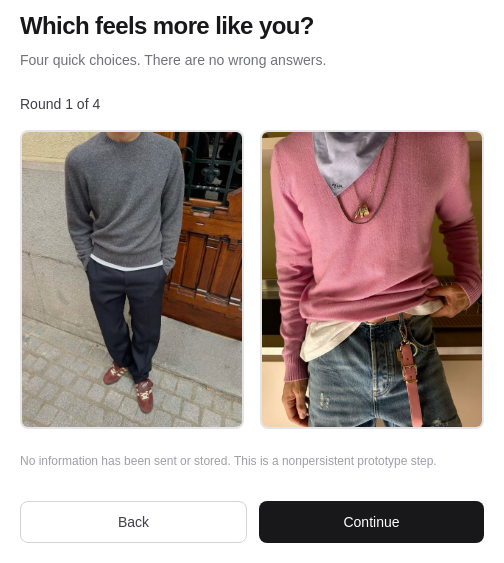
Test: WishboneFlow — Back navigation › preserves a round's earlier selection when navigating Back to it
The width and height of the screenshot is (504, 563).
Click the 1st button: (132, 279) [20, 130, 244, 429]
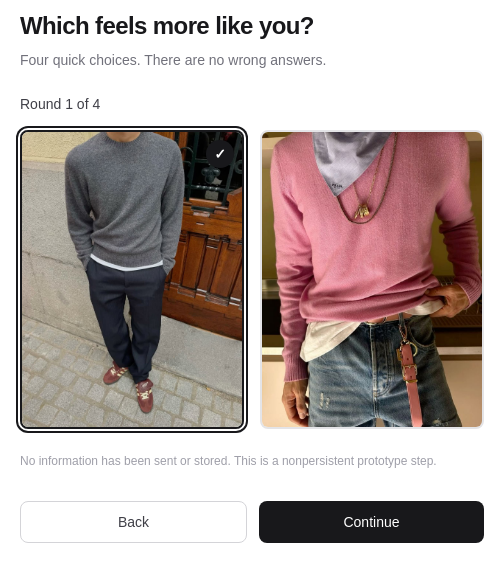
Click the button "Continue": (372, 522) [259, 501, 484, 543]
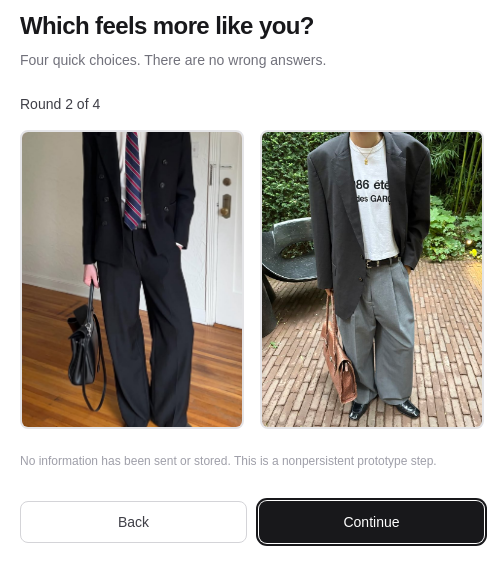
Check: the text "Round 2 of 4" is shown, box [20, 96, 100, 112]
Click the button "Back": (134, 522) [20, 501, 247, 543]
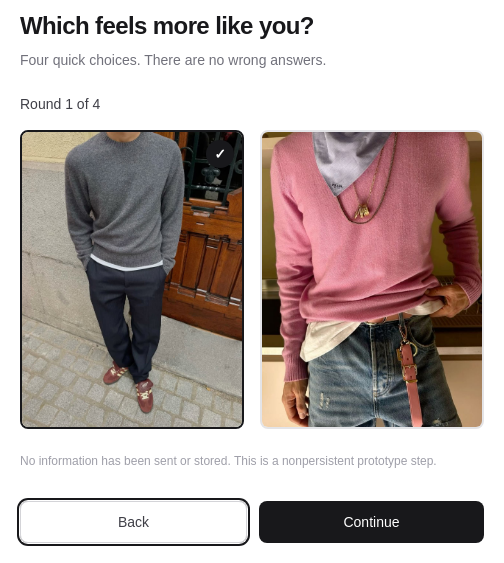
Check: the text "Round 1 of 4" is shown, box [20, 96, 100, 112]
